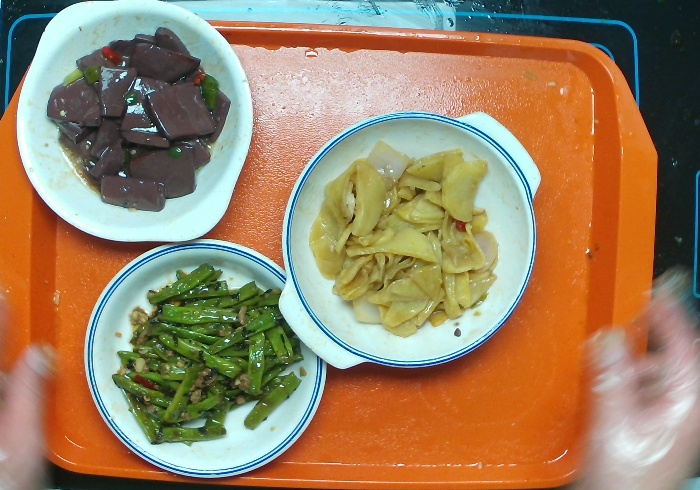HZYJPL-Dai_Er_Bai_Yuan_Wan: (12, 1, 253, 250)
HZYJPL-Lan_Bian_Dai_Er_Wan: (277, 105, 552, 375)
HZYJPL-Lan_Bian_Yuan_Die: (85, 235, 336, 481)
